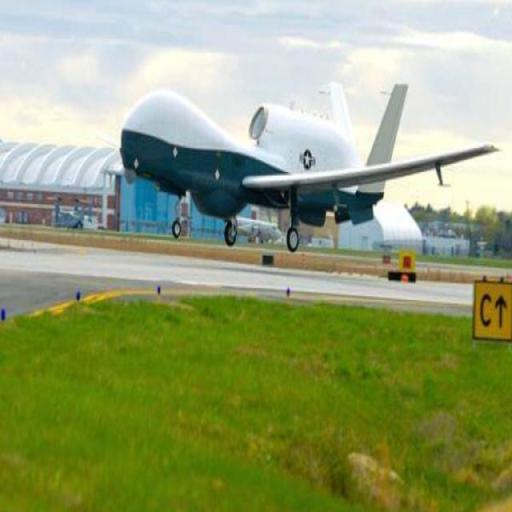uav: (119, 73, 498, 259)
